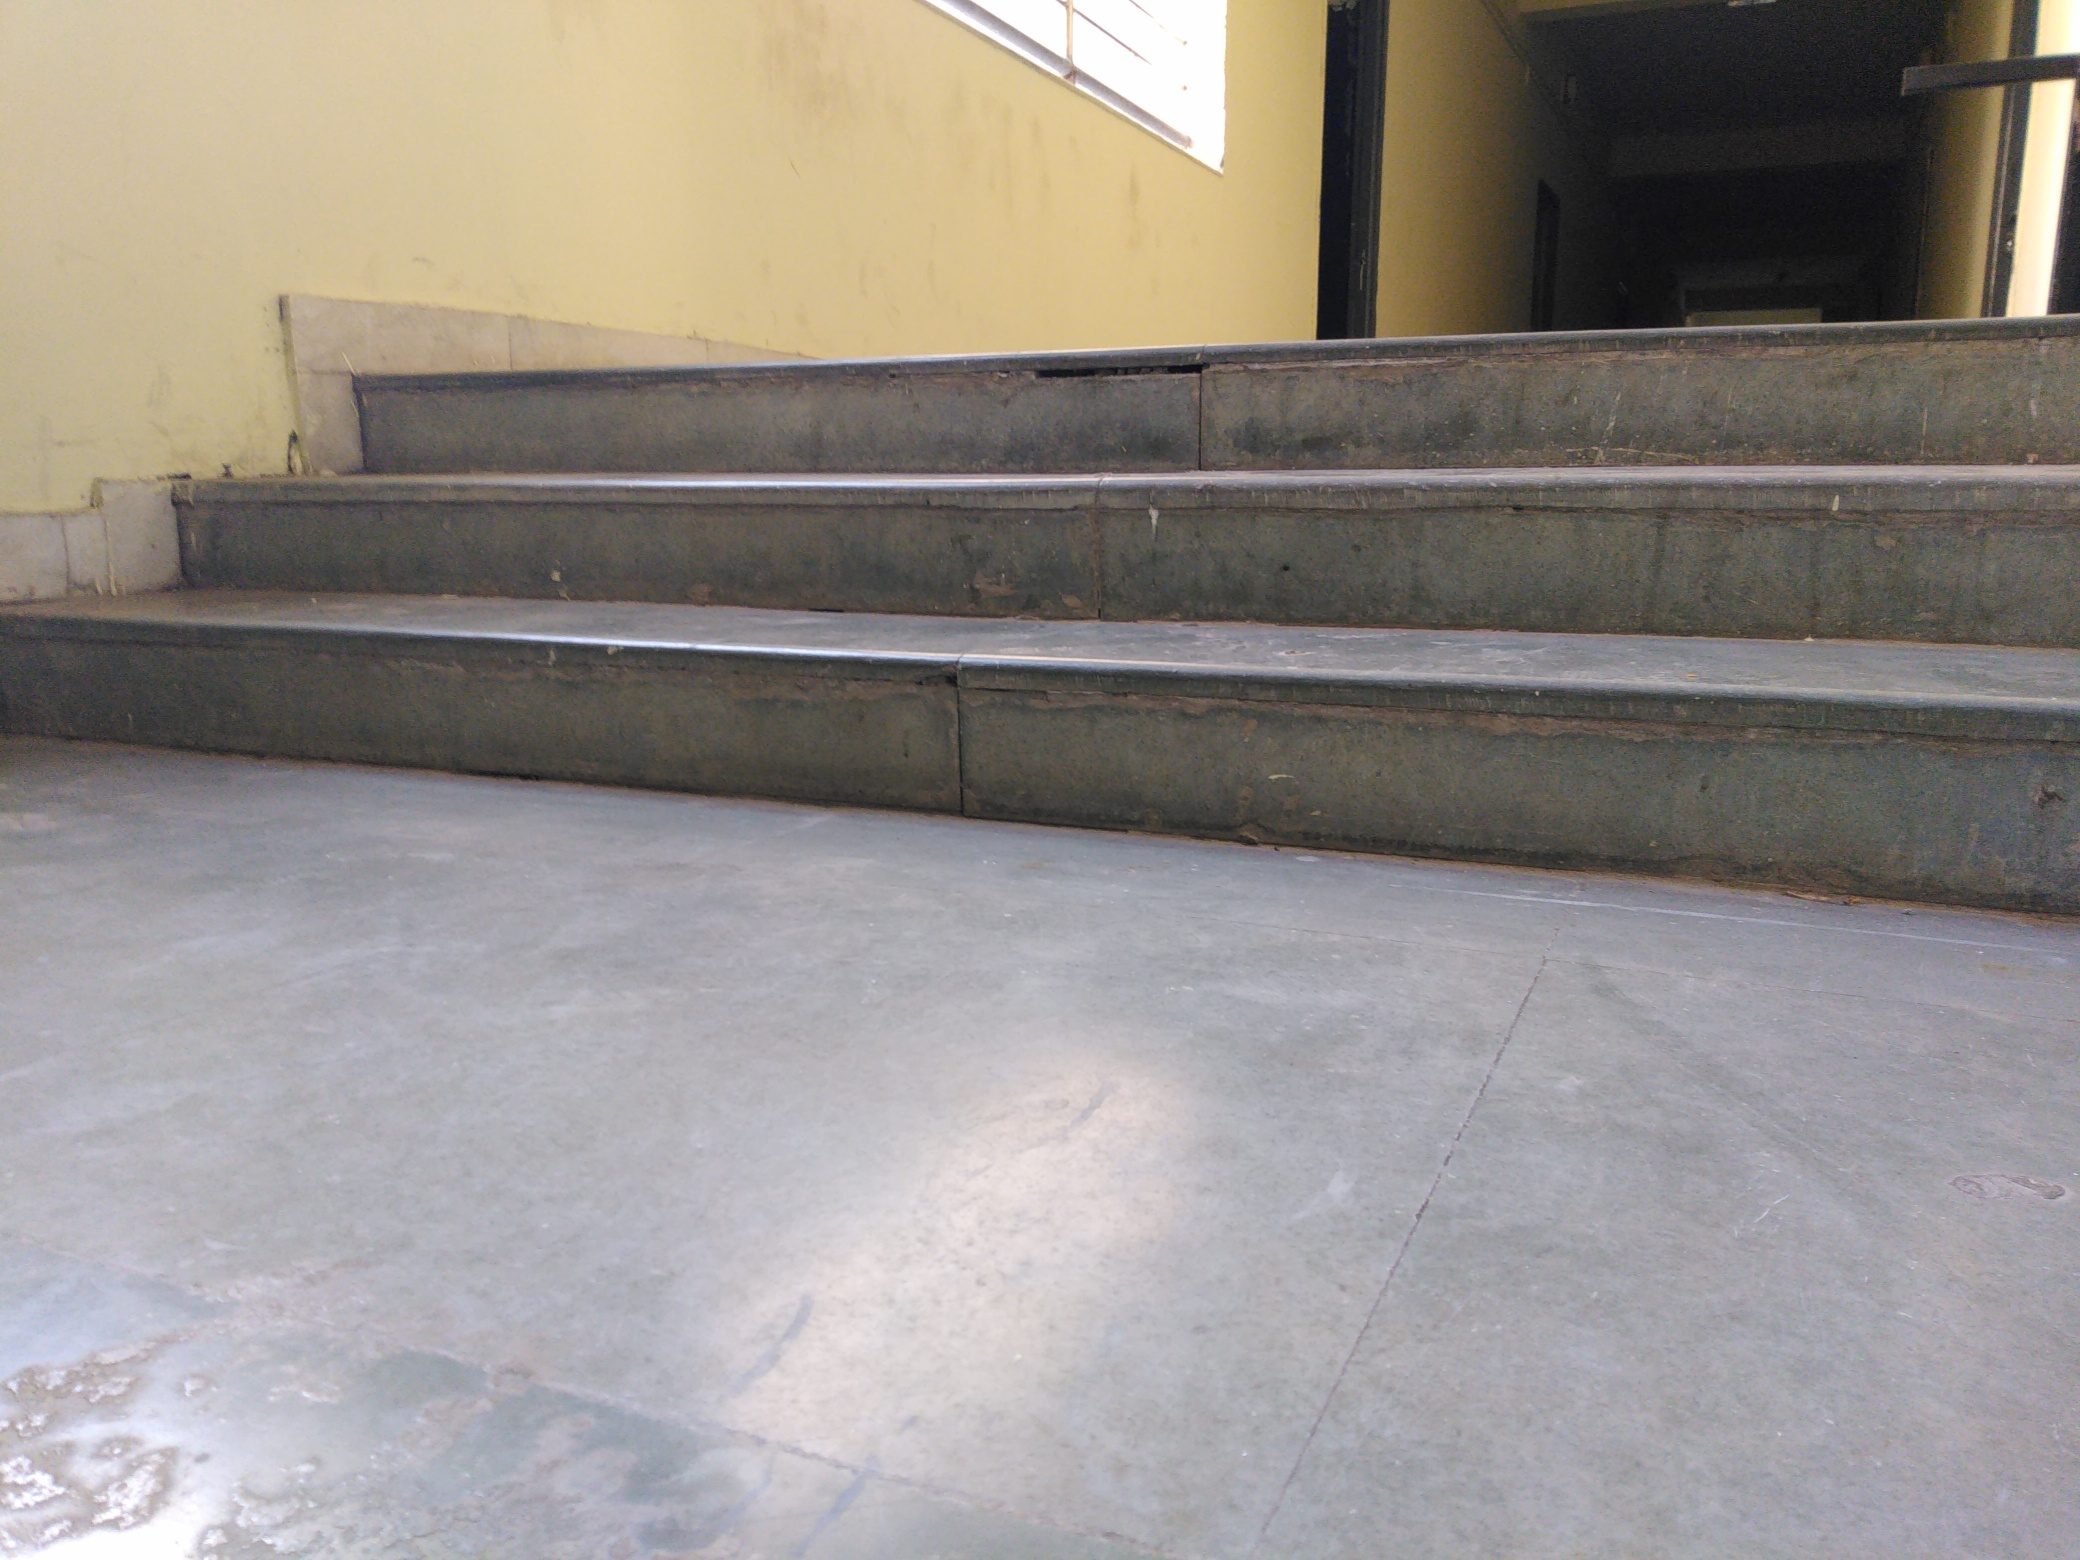stairs_up: (15, 315, 2064, 765)
